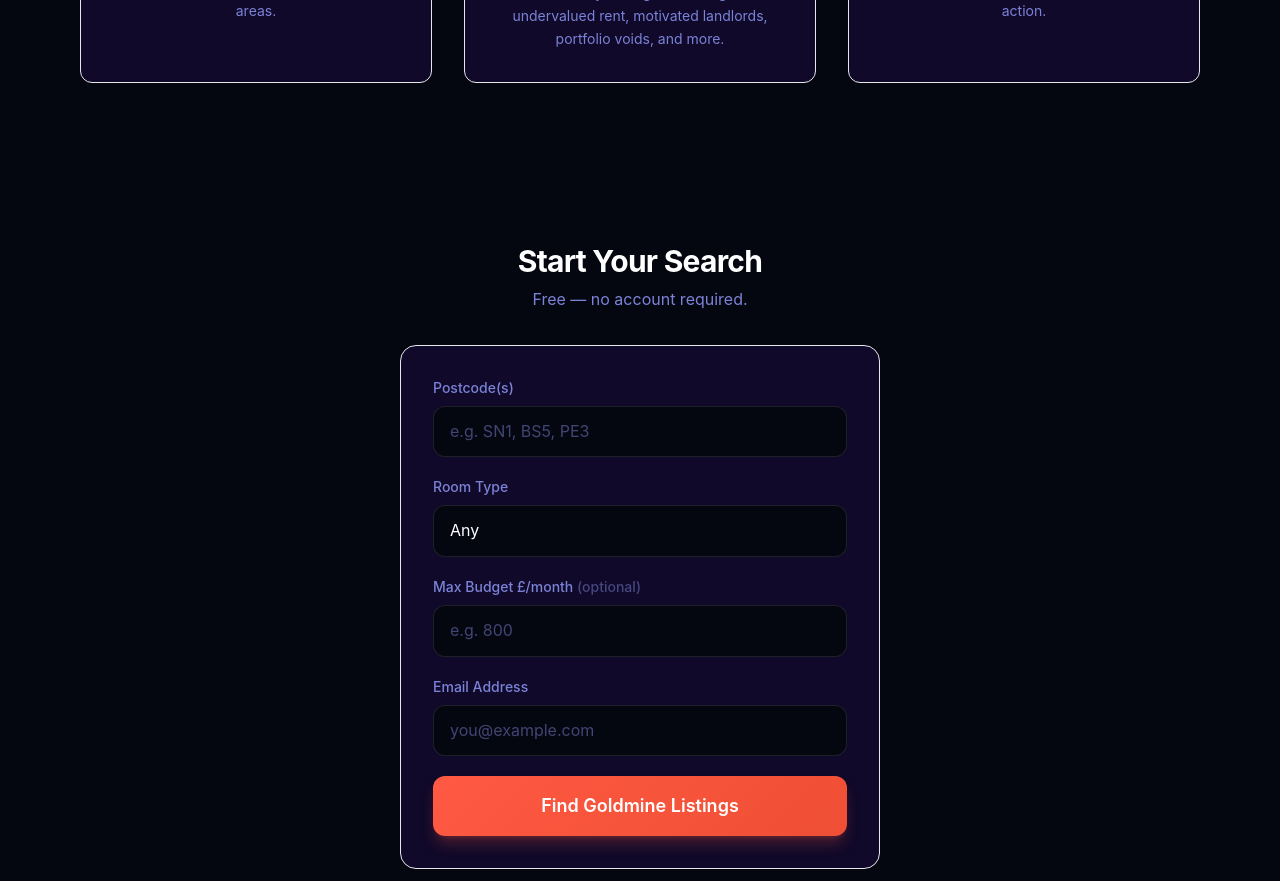
Test: GoldmineFinder — Section B: Form Validation Errors › shows inline error when postcode field is empty
This screenshot has width=1280, height=881.
(page scrolled)
Type "jane@hmolettings.co.uk" into the field with placeholder "you@example.com" at (640, 730), box 433,705 -> 847,756
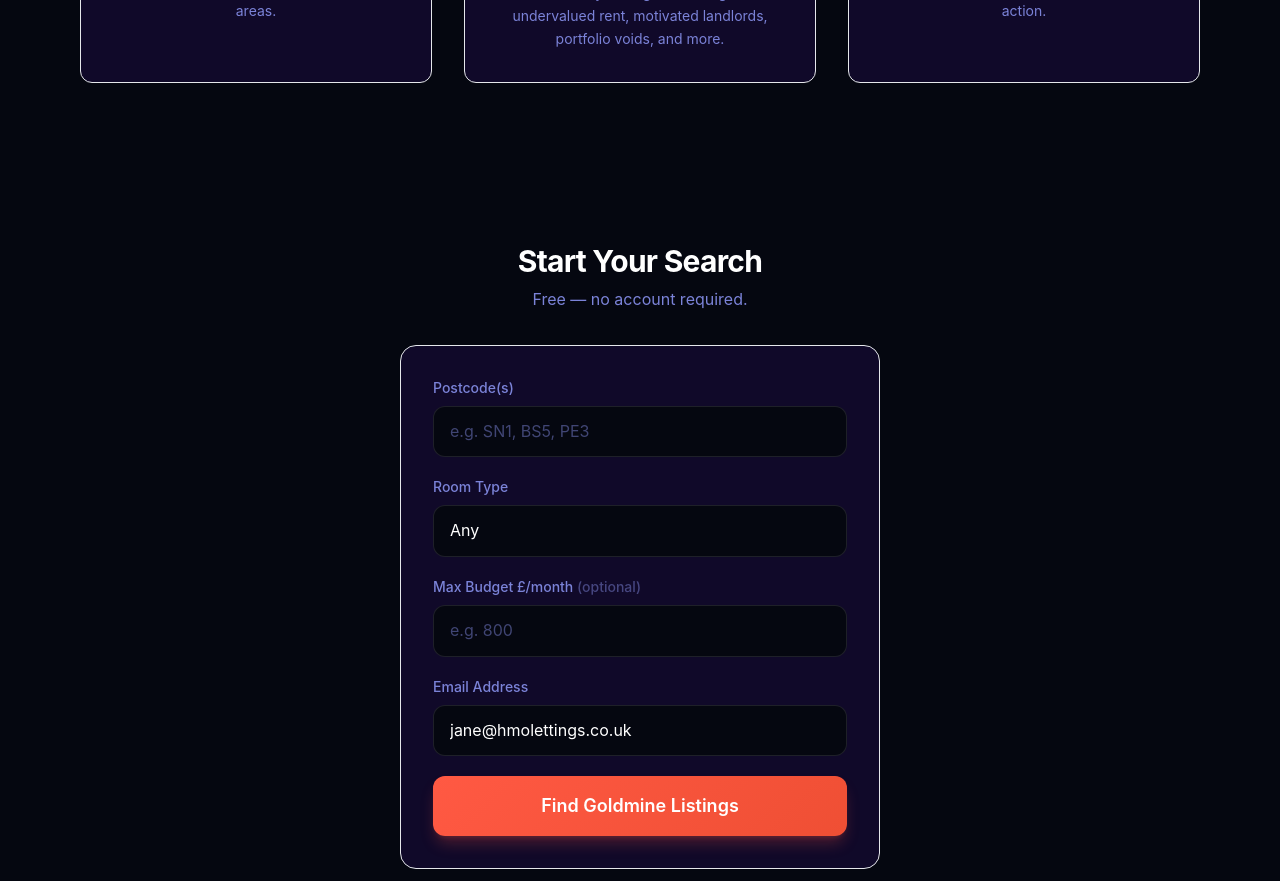
Click the button "Find Goldmine Listings" at (640, 806), box 433,776 -> 847,836
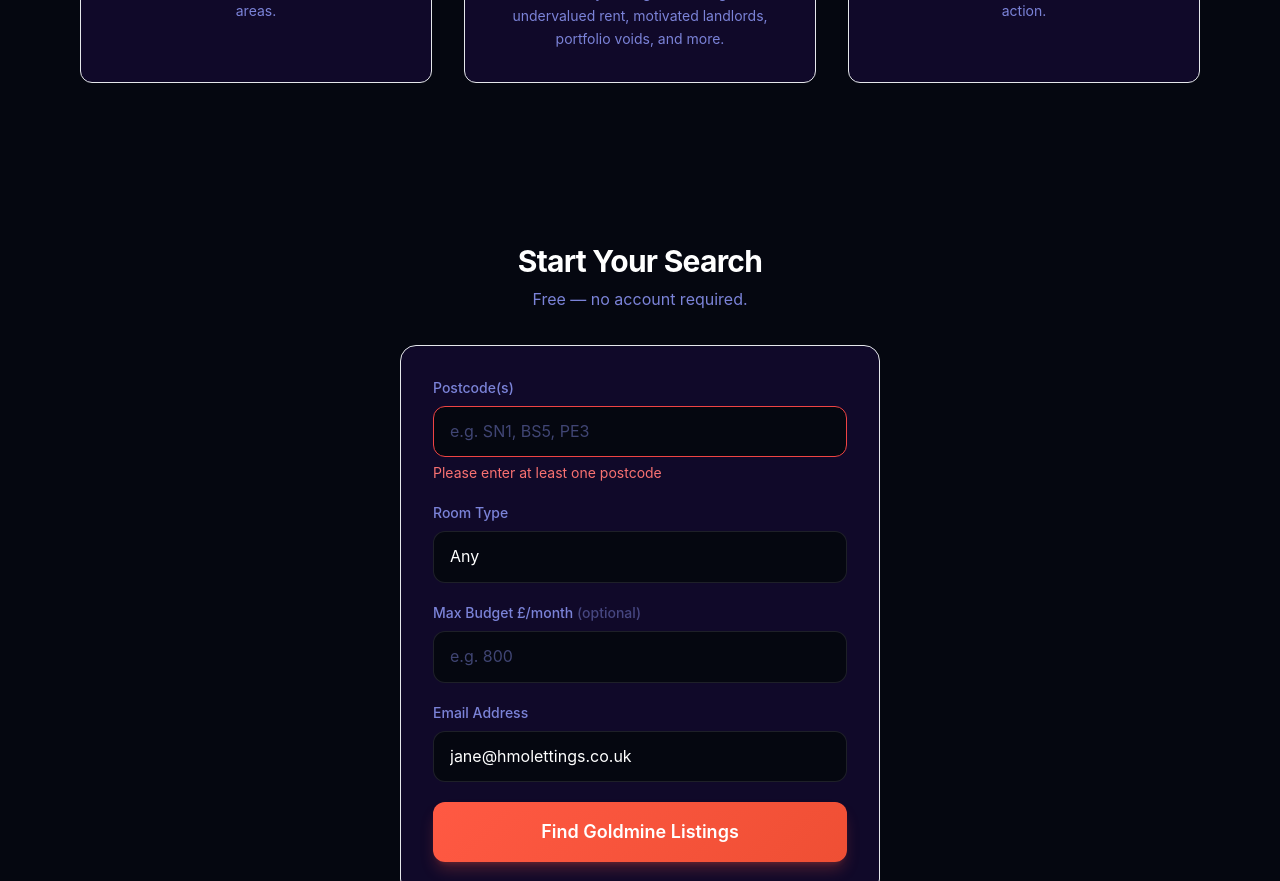
Expected: the text "Please enter at least one postcode" is shown, 433,464 -> 662,481
